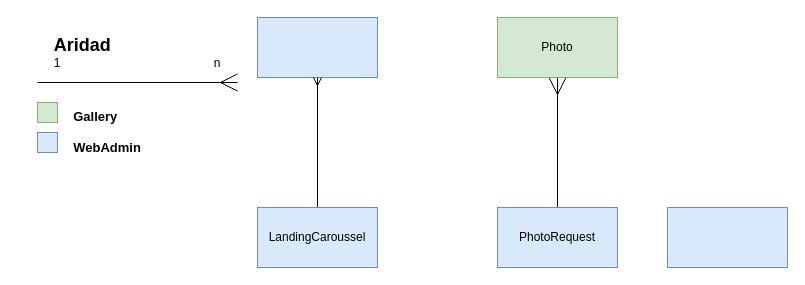
Image size: 805x285. Some labels were removed from this diagram. Here are the shapes that lost their labels. From the top down, the centre of each, then its label:
[317,47]: News
[727,237]: ContactRequest
